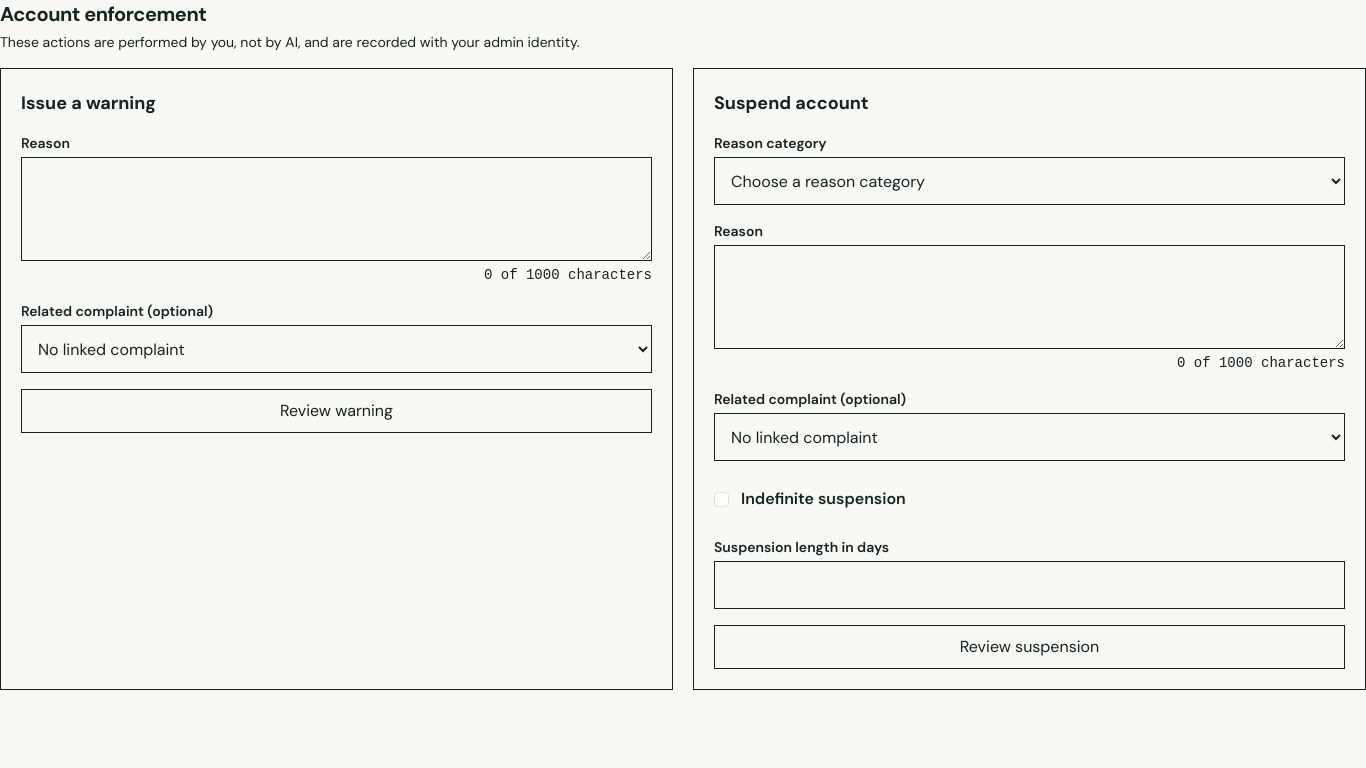
RiderEnforcementActions (OA-FR-21, OA-FR-23, OA-FR-28, CS455-54) › confirms a timed suspension and sends the chosen duration
Select "Safety" in the dropdown labelled "Reason category": (1030,181) [714,157,1345,205]
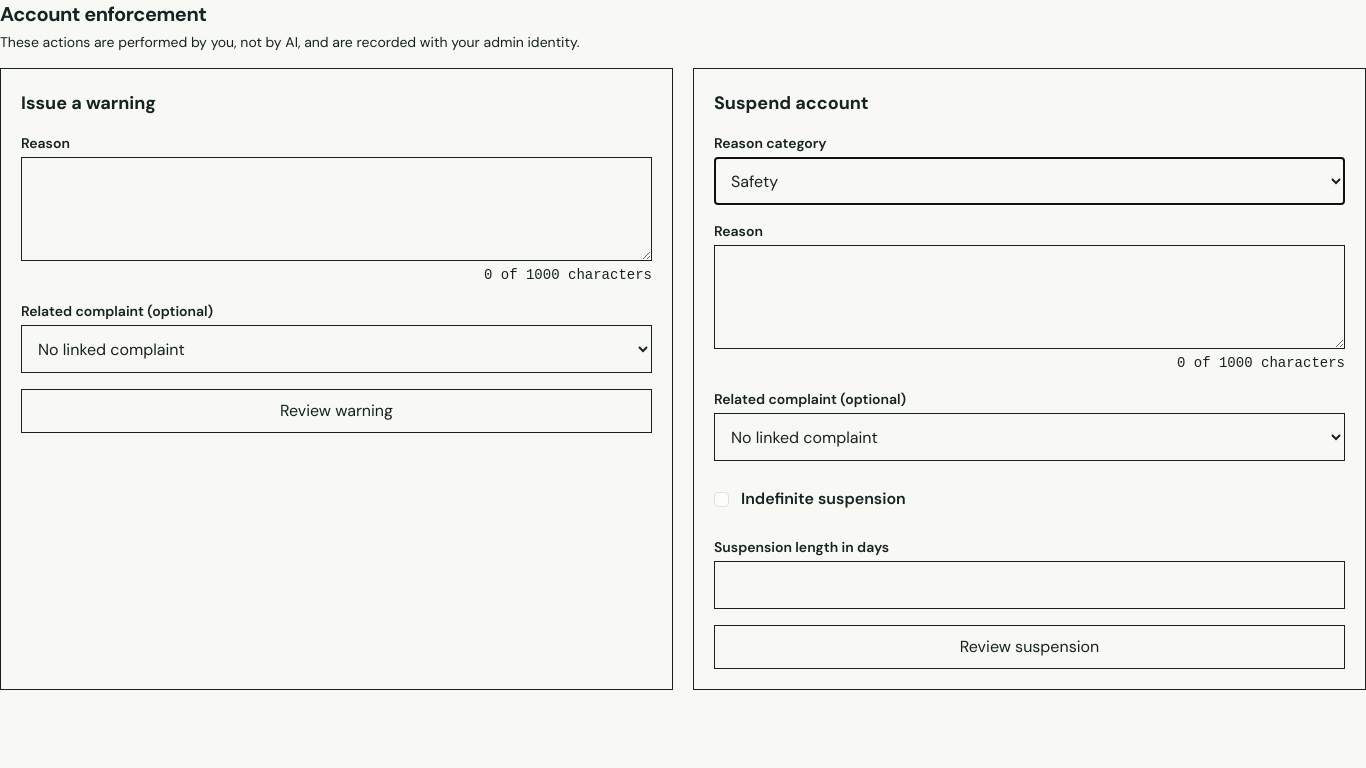
In the text box labelled "Reason" below "Reason category": (1030,297) [714,245,1345,349], type "Repeated unsafe behavior."
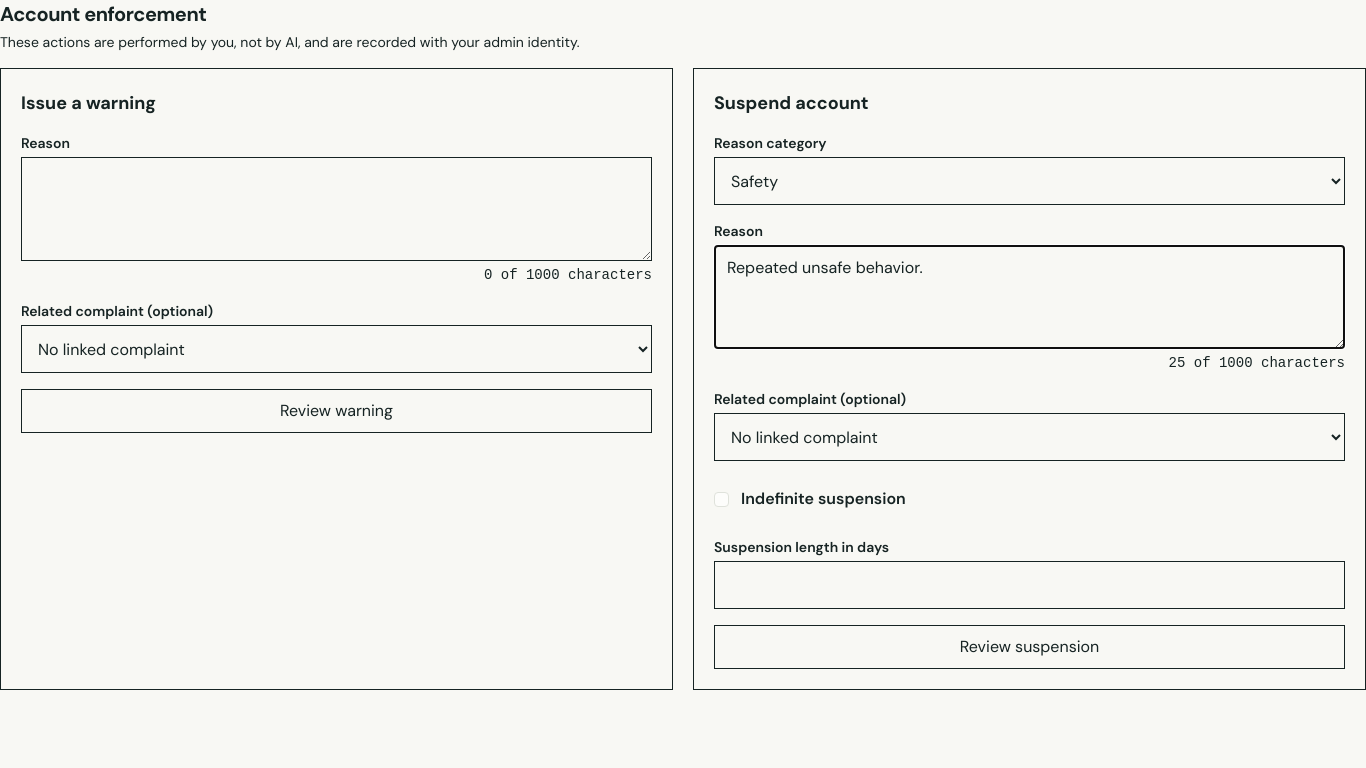
In the number field labelled "Suspension length in days": (1030,585) [714,561,1345,609], type "30"
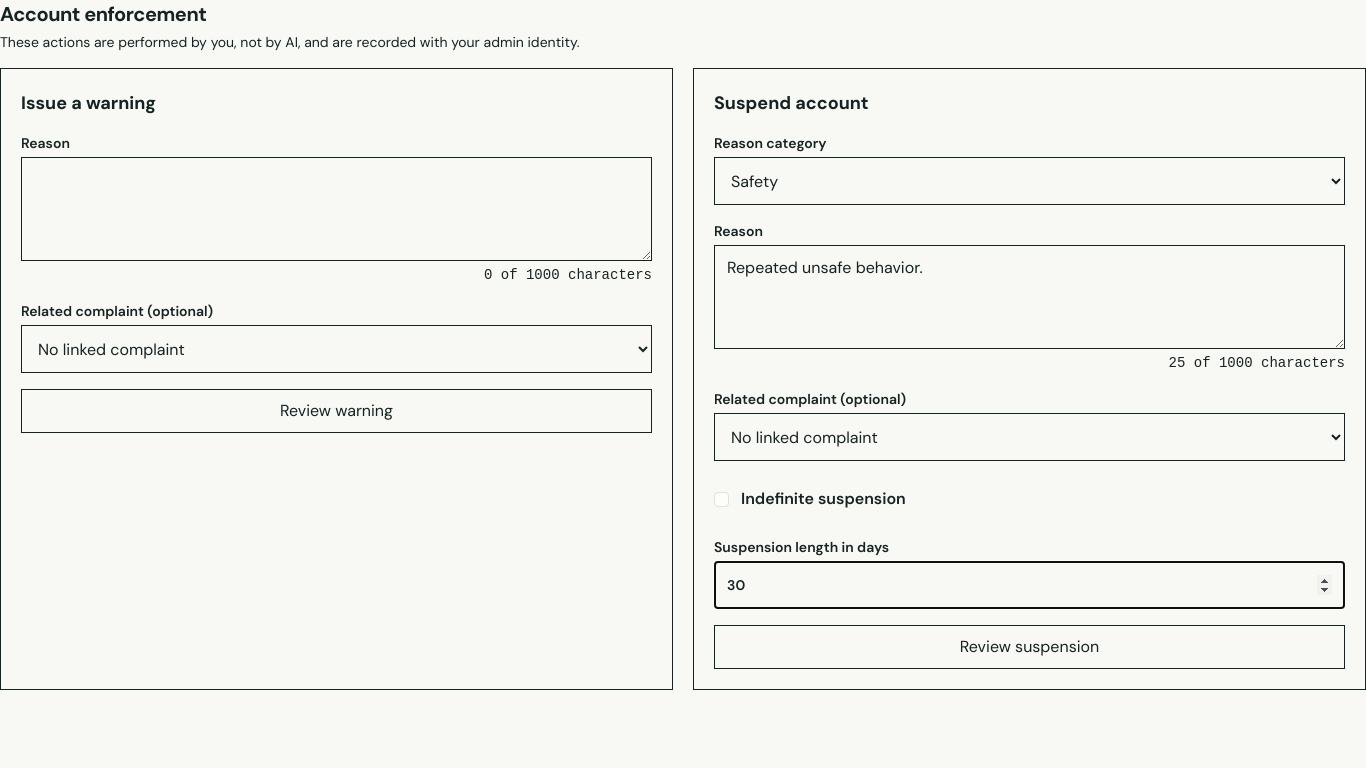
Click the button "Review suspension": (1030,647) [714,625,1345,669]
(page scrolled)
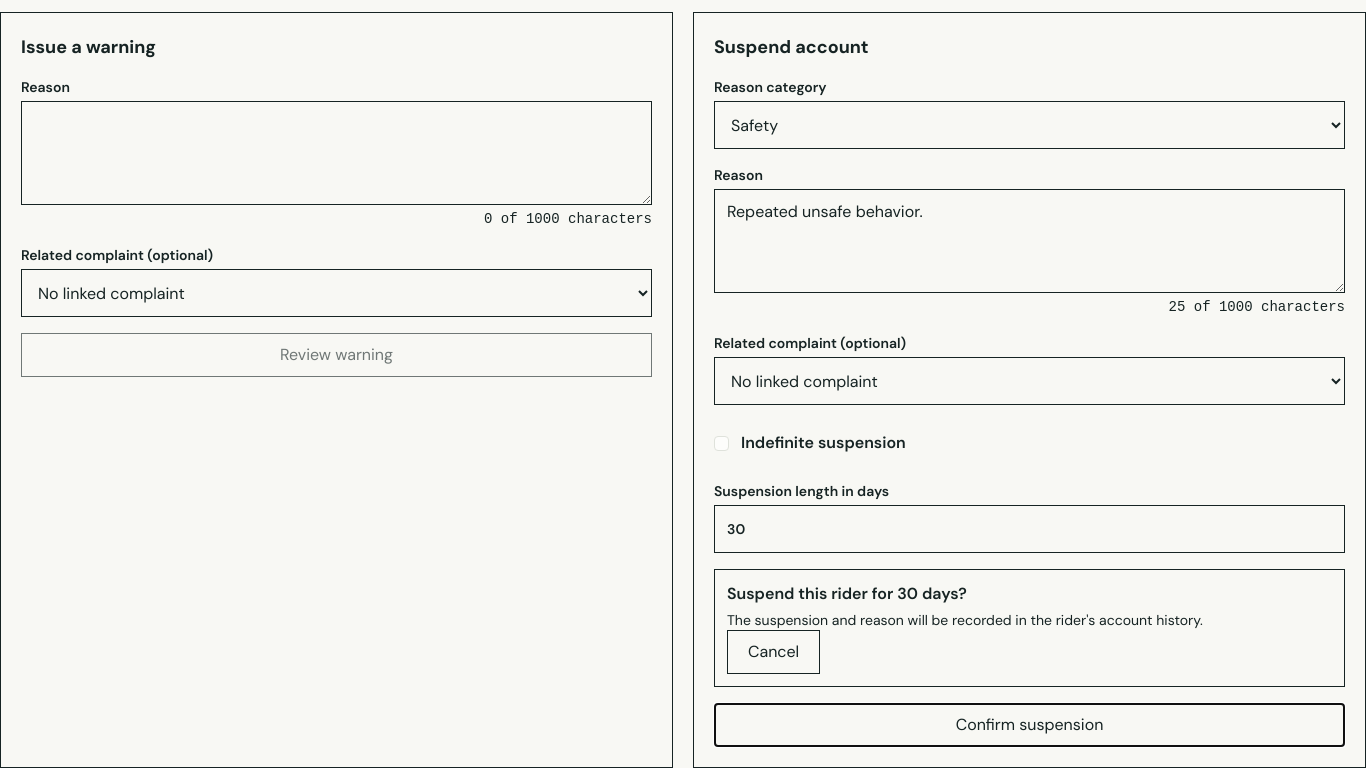
Expected: the text "Suspend this rider for 30 days?" is shown, [727,583,967,604]
Click the button "Confirm suspension": (1030,725) [714,703,1345,747]
(page scrolled)
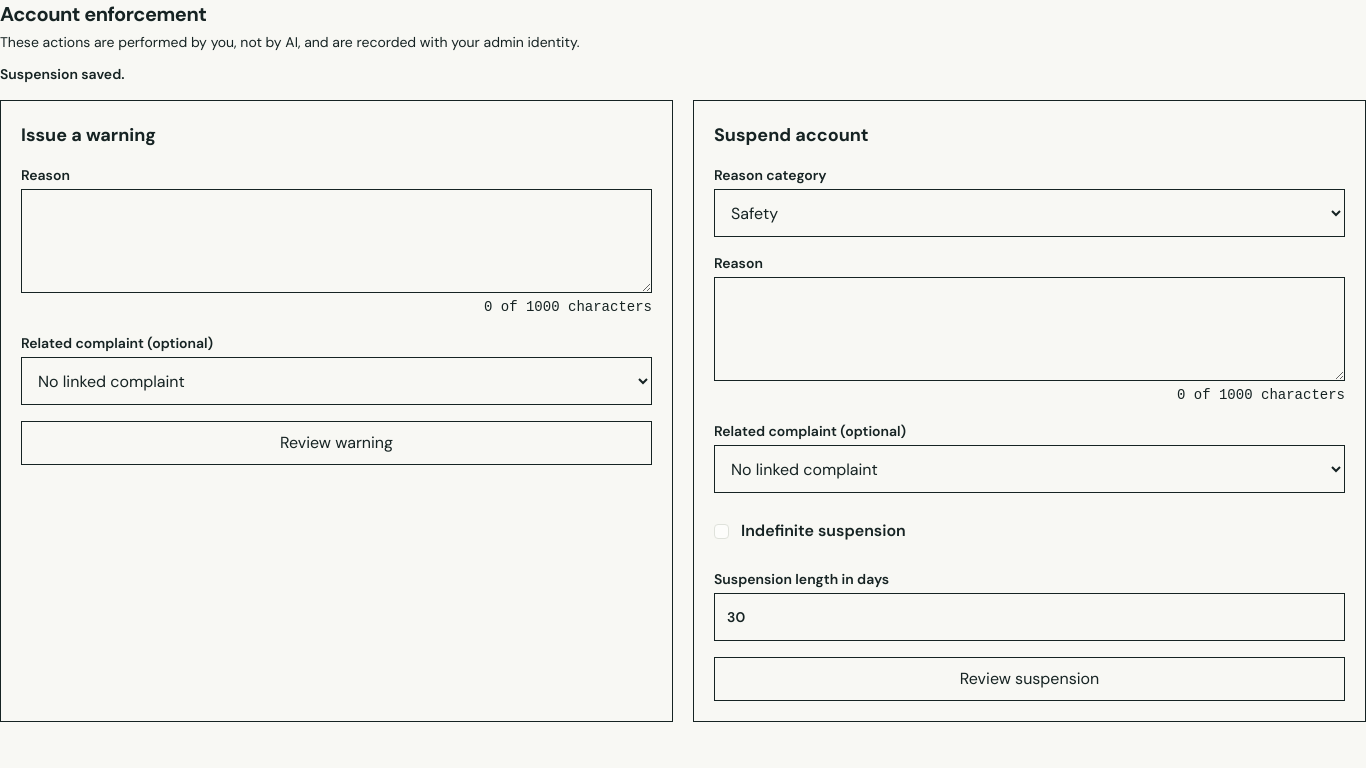
Expected: the message reads "Suspension saved.", [0,65,124,83]
